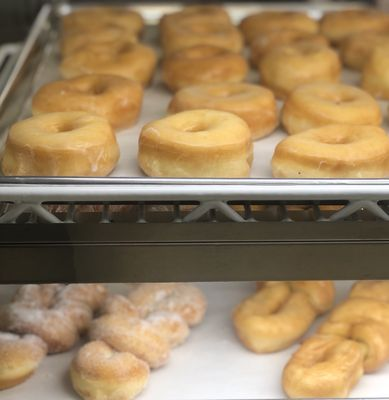salad: (137, 109, 253, 179), (2, 111, 120, 178), (271, 123, 389, 180), (171, 81, 279, 142), (2, 284, 93, 354), (32, 73, 143, 129), (231, 282, 316, 354), (280, 80, 382, 135), (282, 333, 366, 397), (318, 297, 388, 372), (258, 35, 343, 95), (86, 308, 169, 369), (69, 340, 150, 400), (59, 40, 160, 87), (241, 12, 320, 69), (58, 9, 143, 60), (159, 9, 245, 59), (160, 46, 251, 93), (127, 283, 208, 328), (0, 331, 48, 390), (320, 8, 388, 46), (144, 310, 190, 351), (341, 30, 386, 70)
